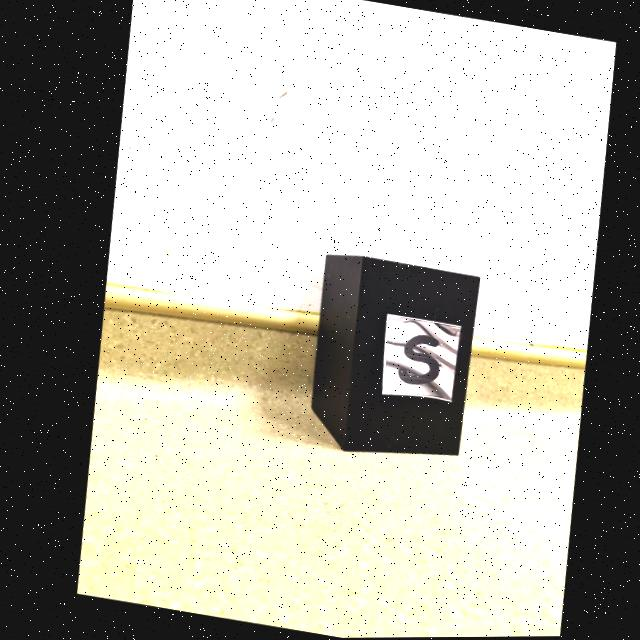S: (391, 335, 433, 385)
